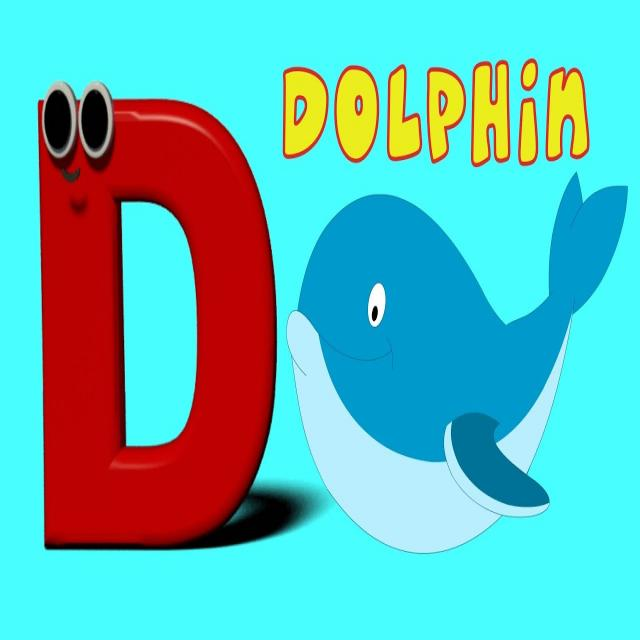D: (282, 48, 333, 192)
